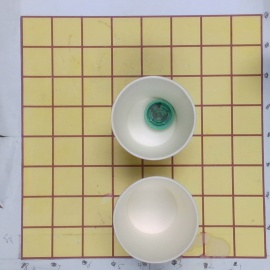cup: (113, 175, 199, 264)
cup_green: (109, 76, 199, 161)
